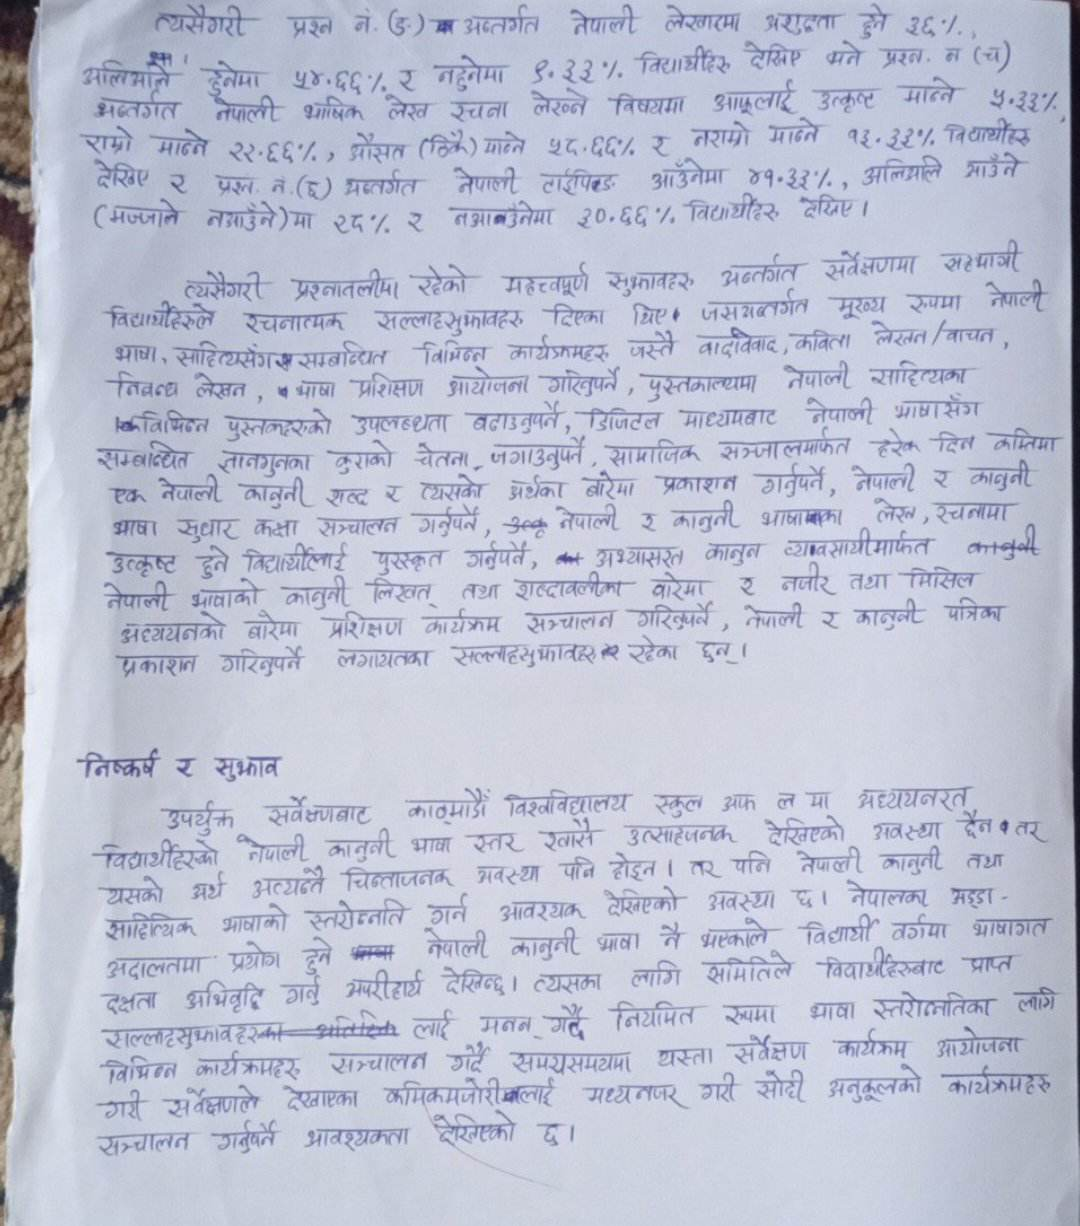text: (382, 1074, 558, 1107), (778, 528, 932, 563), (718, 426, 854, 463), (98, 1021, 263, 1050), (222, 404, 335, 445), (372, 305, 529, 335), (290, 266, 401, 307), (824, 1063, 925, 1108), (504, 784, 635, 816), (445, 641, 599, 668), (117, 610, 227, 647), (98, 838, 221, 872), (872, 990, 995, 1023), (644, 367, 758, 401), (856, 784, 976, 816), (940, 1066, 1056, 1100), (509, 1046, 635, 1076), (501, 260, 592, 301), (164, 1082, 263, 1120), (150, 3, 251, 40), (399, 785, 494, 824), (103, 300, 219, 332), (297, 1123, 413, 1154), (819, 951, 948, 979), (263, 794, 374, 827), (623, 818, 738, 850), (194, 1051, 301, 1084), (178, 265, 273, 302), (509, 572, 631, 602), (173, 338, 275, 372), (868, 358, 976, 390), (322, 1044, 429, 1076), (428, 1107, 523, 1144), (682, 196, 782, 230), (482, 439, 585, 472), (584, 1081, 693, 1112), (699, 291, 808, 322), (708, 79, 797, 117), (96, 438, 195, 471), (181, 978, 265, 1017), (929, 1025, 1025, 1059), (819, 247, 917, 280), (101, 909, 199, 942), (939, 237, 1022, 276), (304, 899, 404, 931), (637, 45, 731, 79), (702, 954, 795, 988), (606, 997, 699, 1031), (730, 1028, 815, 1065), (241, 544, 350, 573), (339, 864, 455, 891), (505, 335, 612, 364), (75, 57, 172, 90), (348, 409, 451, 439), (96, 1126, 192, 1158), (838, 875, 931, 908), (91, 90, 180, 124), (468, 402, 563, 435), (440, 367, 532, 400), (343, 968, 426, 1005), (219, 643, 304, 679), (524, 602, 617, 634), (607, 85, 691, 121), (214, 449, 316, 479), (237, 475, 314, 514), (462, 3, 543, 40), (295, 339, 390, 370), (77, 747, 158, 784), (659, 1, 742, 36), (444, 203, 557, 229), (603, 438, 699, 468), (980, 273, 1048, 316), (603, 266, 697, 296), (324, 827, 398, 865), (101, 953, 206, 980), (437, 965, 510, 1004), (940, 117, 1033, 147), (719, 253, 801, 288), (239, 308, 342, 335), (163, 801, 237, 838), (277, 1082, 360, 1115), (339, 166, 426, 197), (588, 542, 684, 570), (566, 2, 639, 39), (778, 355, 851, 392), (964, 913, 1062, 940), (249, 864, 326, 899), (208, 1119, 277, 1157), (892, 392, 980, 422), (446, 165, 525, 198), (860, 156, 944, 188), (666, 498, 738, 535), (508, 928, 582, 963), (437, 52, 507, 90), (965, 457, 1035, 494), (797, 393, 874, 427), (314, 512, 403, 541), (538, 165, 618, 197), (185, 577, 265, 609), (279, 575, 350, 612), (332, 645, 431, 671), (989, 422, 1066, 456), (368, 573, 440, 609), (196, 59, 264, 97), (697, 916, 774, 950), (414, 501, 480, 540), (602, 887, 680, 920), (696, 326, 780, 357), (471, 857, 542, 892), (682, 404, 782, 430), (572, 200, 649, 232), (832, 1030, 914, 1060), (201, 202, 280, 234), (849, 460, 921, 494), (103, 578, 175, 612), (351, 370, 427, 402), (848, 597, 924, 630), (212, 750, 280, 785), (218, 899, 289, 933), (208, 95, 281, 128), (139, 404, 212, 438), (494, 897, 584, 924), (649, 160, 727, 191), (800, 913, 877, 945), (101, 1054, 180, 1084), (546, 366, 620, 398), (755, 502, 846, 529), (762, 819, 846, 848), (418, 608, 506, 635), (682, 118, 753, 151), (114, 366, 180, 401), (478, 1009, 549, 1043), (375, 544, 450, 575), (318, 614, 408, 640), (777, 562, 837, 600), (959, 148, 1029, 181), (419, 925, 489, 958), (529, 53, 600, 85), (415, 470, 487, 502), (759, 8, 841, 36), (227, 137, 301, 168), (105, 199, 179, 230), (634, 603, 713, 632), (288, 65, 364, 95), (241, 833, 310, 866), (329, 439, 394, 474), (104, 547, 182, 577), (702, 885, 780, 914), (759, 464, 827, 497), (791, 847, 868, 876), (582, 403, 664, 431), (345, 127, 404, 165), (933, 499, 1012, 528), (526, 85, 593, 119), (155, 475, 224, 508), (553, 500, 621, 533), (150, 124, 208, 162), (904, 565, 979, 594), (526, 970, 602, 999), (101, 876, 169, 908), (415, 260, 470, 299), (406, 439, 475, 470), (539, 816, 598, 853), (869, 316, 930, 351), (868, 816, 944, 844), (939, 593, 1007, 624), (190, 370, 251, 404), (846, 123, 916, 153), (419, 337, 493, 365), (91, 157, 151, 192), (654, 471, 740, 495), (742, 162, 813, 191), (459, 541, 530, 570), (542, 131, 618, 158), (743, 39, 804, 72), (754, 1066, 809, 1103), (242, 612, 300, 646), (116, 652, 199, 676), (623, 633, 680, 668), (96, 986, 159, 1017), (899, 75, 958, 108), (629, 957, 684, 992), (298, 94, 365, 123), (812, 84, 879, 114), (505, 473, 571, 502), (576, 471, 645, 499), (223, 941, 285, 973), (717, 998, 779, 1029), (173, 512, 236, 542), (447, 95, 509, 125), (742, 602, 804, 632), (653, 1040, 718, 1069), (889, 914, 950, 945), (649, 568, 706, 600), (880, 847, 944, 875), (699, 537, 759, 567), (649, 787, 705, 819), (550, 1001, 593, 1043), (764, 117, 823, 147), (78, 125, 134, 156), (792, 324, 854, 352), (901, 290, 969, 315), (95, 1088, 145, 1123), (872, 425, 919, 460), (547, 299, 606, 327), (251, 509, 300, 542), (827, 293, 889, 319), (801, 191, 856, 220), (285, 10, 339, 40), (699, 1071, 740, 1109), (959, 843, 1009, 875), (1012, 985, 1062, 1016), (407, 1007, 450, 1043), (280, 973, 326, 1006), (429, 125, 469, 164), (628, 330, 674, 363), (947, 881, 1000, 909), (987, 87, 1041, 114), (296, 937, 334, 976), (964, 950, 1016, 977), (207, 169, 257, 197), (112, 513, 159, 542), (596, 928, 644, 957), (943, 322, 997, 348), (843, 568, 890, 597), (198, 539, 231, 580), (609, 855, 657, 883), (111, 341, 159, 368), (455, 577, 504, 604), (472, 830, 521, 857), (558, 854, 597, 887), (870, 495, 917, 523), (855, 5, 890, 42), (427, 894, 470, 925), (876, 46, 927, 71), (731, 849, 775, 878), (289, 377, 342, 401), (446, 1043, 491, 1071), (404, 831, 455, 856), (625, 299, 668, 328), (934, 427, 977, 457), (955, 813, 997, 842), (480, 132, 527, 157), (806, 999, 859, 1021), (821, 46, 867, 71), (532, 1119, 567, 1151), (699, 638, 737, 668), (1013, 816, 1049, 848), (323, 485, 371, 508), (329, 212, 371, 238), (383, 98, 431, 120), (107, 481, 147, 507), (720, 791, 759, 817), (685, 855, 721, 882), (185, 879, 227, 902), (903, 15, 940, 38), (942, 40, 969, 69), (287, 209, 319, 232), (381, 477, 404, 508), (171, 755, 197, 782), (789, 885, 817, 910), (658, 921, 683, 949), (394, 66, 418, 95), (815, 607, 844, 631), (349, 10, 375, 36), (734, 574, 759, 600), (402, 209, 429, 232), (772, 787, 796, 813), (929, 467, 951, 495), (648, 131, 668, 162), (391, 9, 412, 38), (165, 171, 190, 194), (806, 789, 831, 812), (637, 507, 658, 534), (980, 44, 1002, 67), (269, 172, 289, 194), (304, 174, 319, 200)
